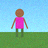person: (12, 9, 27, 37)
